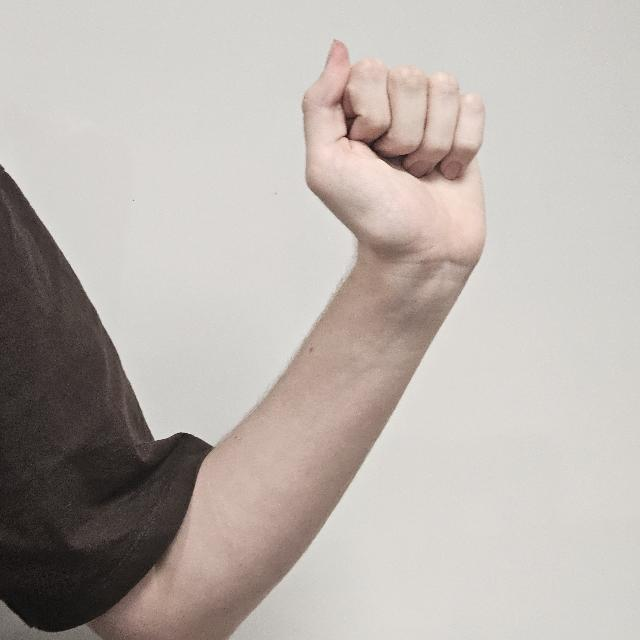Quadro: (301, 36, 491, 266)
